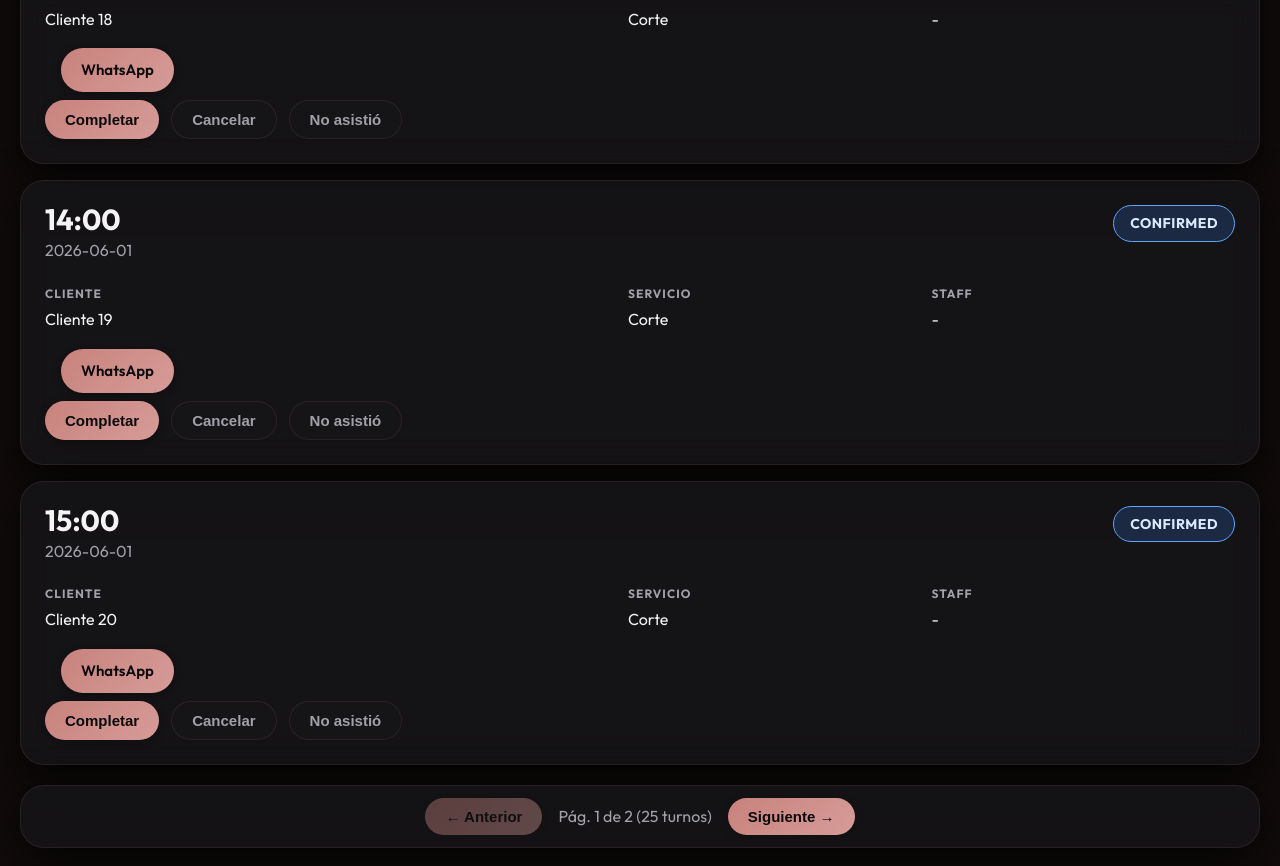
Test: StaffDashboard › paginates appointments
The width and height of the screenshot is (1280, 866).
(page scrolled)
Step 1. Click the button "Siguiente →" → point(791, 817), box left=728, top=798, right=855, bottom=835
(page scrolled)
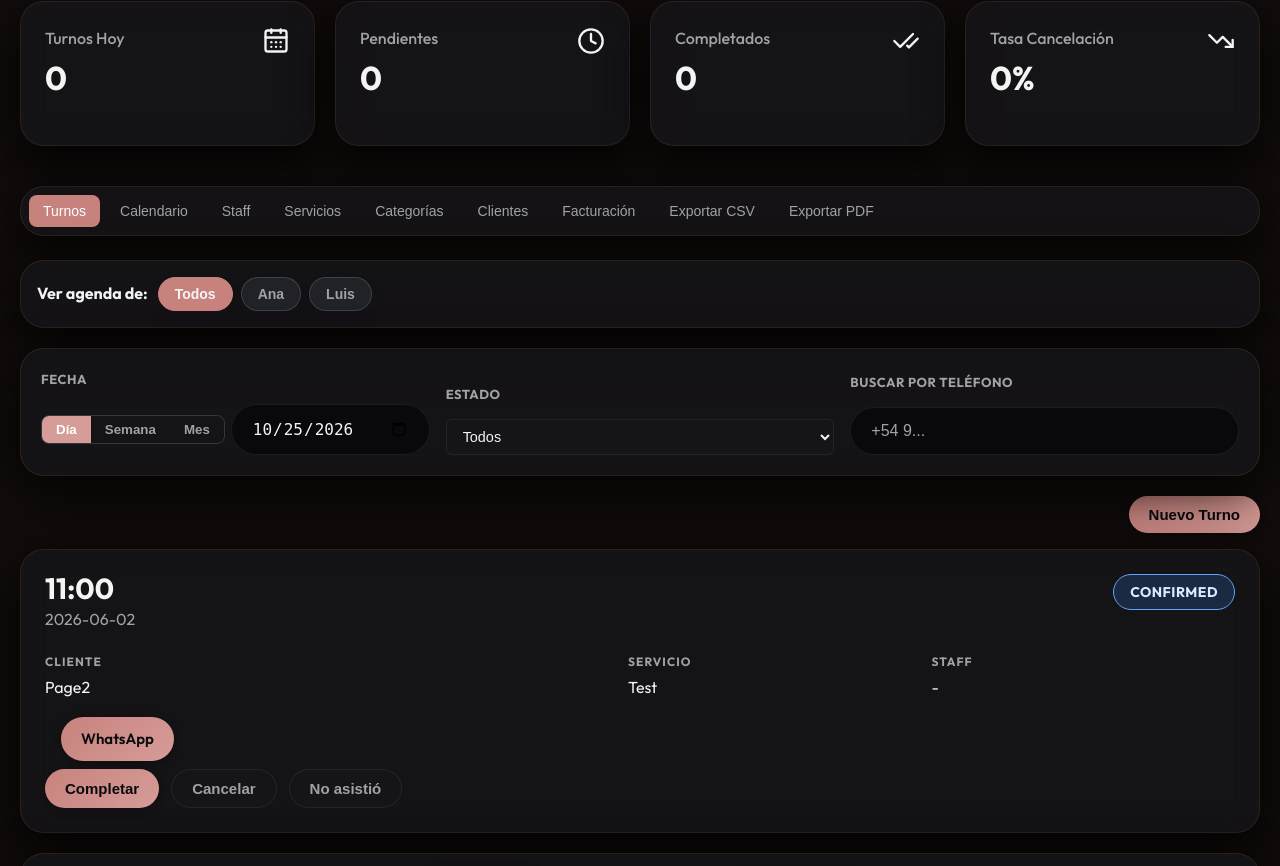
Check: the text "Page2" is shown, box left=45, top=677, right=90, bottom=697
